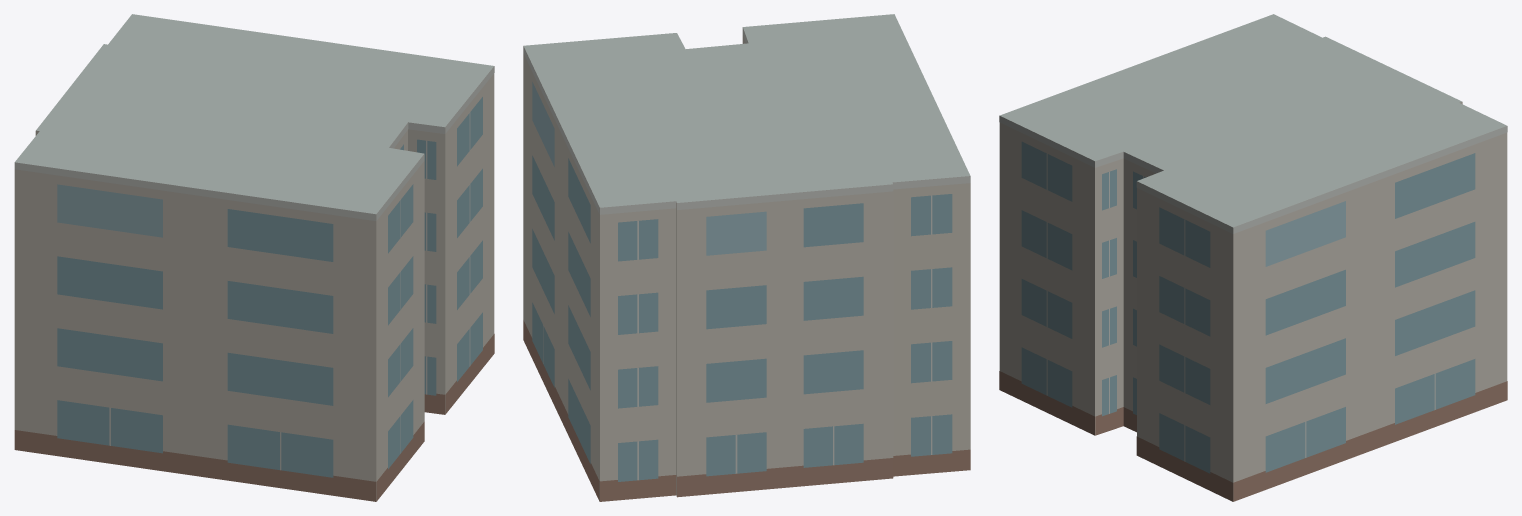
Rendered from survey-upis-32740953.glb.
3 renders of one model, left to right at view 1: azimuth 30°, elevation 25°; view 2: azimuth 150°, elevation 25°; view 3: azimuth 270°, elevation 25°, orthographic. The views are drawn at different scales.
Parts seen in each view (by area): view 1: survey-upis-32740953.tmp; view 2: survey-upis-32740953.tmp; view 3: survey-upis-32740953.tmp.
Part boxes in pixels (<box>): survey-upis-32740953.tmp: <box>14,14,494,501</box>; survey-upis-32740953.tmp: <box>523,14,970,501</box>; survey-upis-32740953.tmp: <box>999,14,1507,501</box>.
Bounding box in the file's own units: 16.86 × 10.1 × 16.95.
